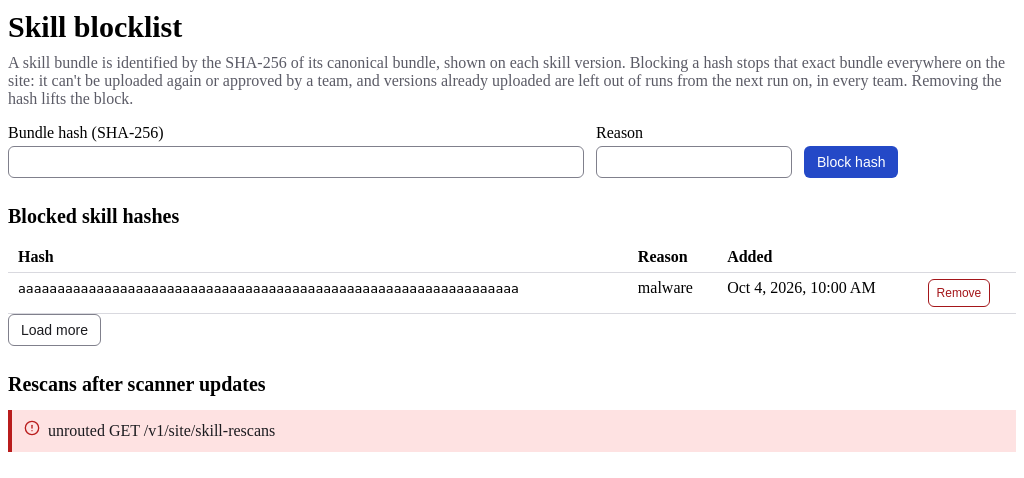
Scenario: Skill blocklist (KOBE-81) › lists hashes and pages with Load more
This screenshot has width=1024, height=478.
Step 1. Click the button "Load more" → [54, 330], box [8,314,101,346]
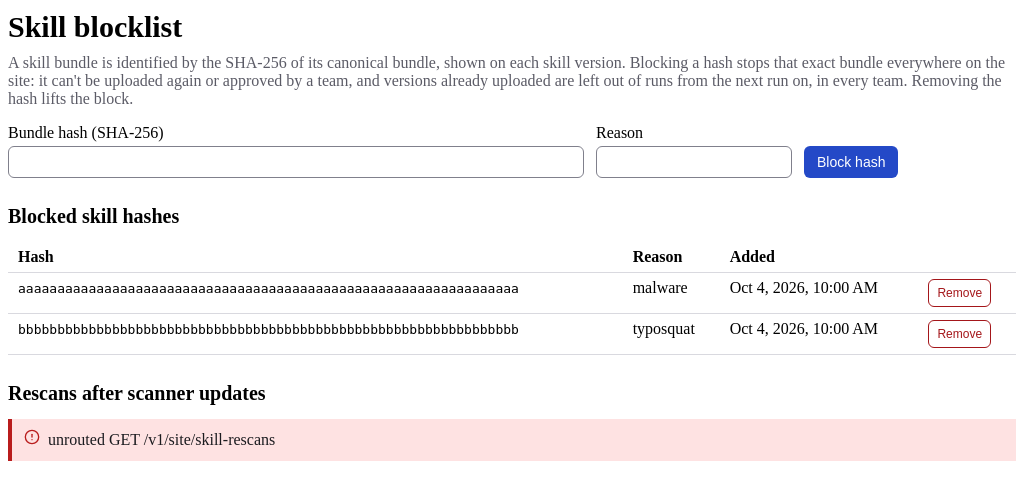
Expected: the text "malware" is shown, [623,272,720,313]
Expected: the button "Load more" is gone
